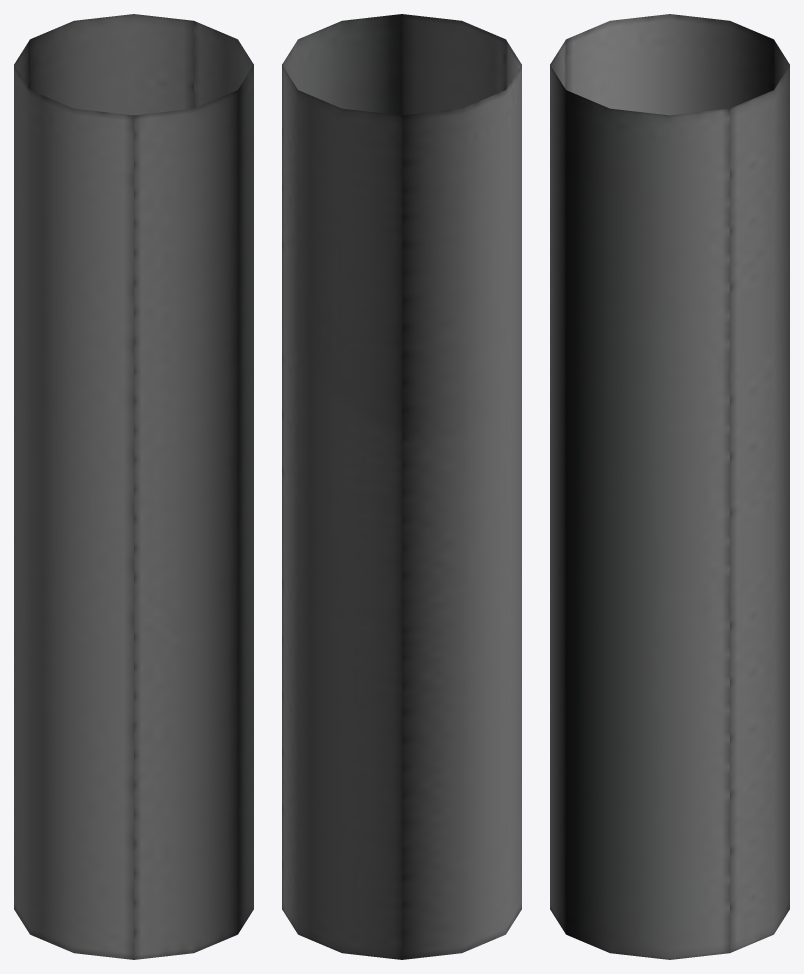
The model's file is pole.obj.
3 renders of one model, left to right at view 1: azimuth 30°, elevation 25°; view 2: azimuth 150°, elevation 25°; view 3: azimuth 270°, elevation 25°, orthographic.
Visible parts, largest first — view 1: gunpole; view 2: gunpole; view 3: gunpole.
Part boxes in pixels (x1,y1,x2,y2): gunpole: (14, 14, 253, 959); gunpole: (282, 14, 521, 959); gunpole: (550, 14, 789, 959).
Size of the model in its own units: 9.31 by 36.17 by 9.31.
1 material, 1 textured.
